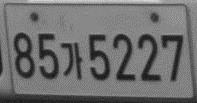2: (112, 32, 136, 81), (137, 33, 161, 81)
5: (37, 32, 59, 80), (88, 33, 110, 80)
7: (160, 33, 183, 81)
8: (11, 31, 35, 79)
가: (59, 41, 83, 80)
